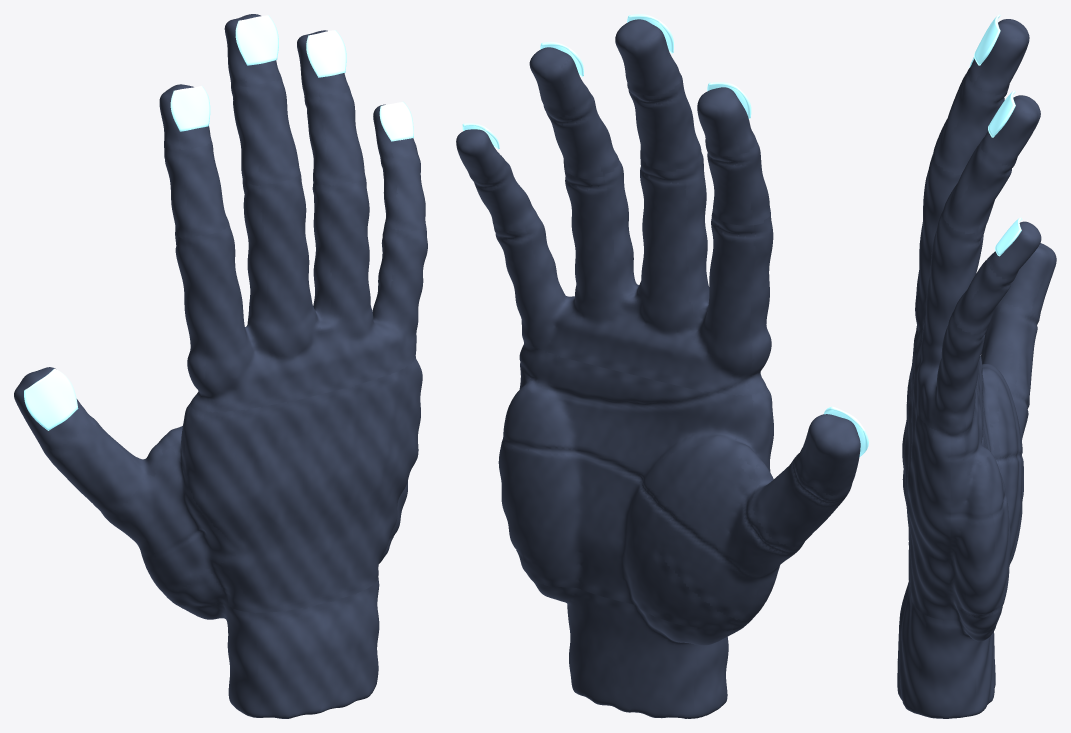
Rendered from family-17.glb.
3 renders of one model, left to right at view 1: azimuth 30°, elevation 25°; view 2: azimuth 150°, elevation 25°; view 3: azimuth 270°, elevation 25°, orthographic. The views are drawn at different scales.
Parts seen in each view (by area): view 1: knuckles__knuckles_sculpt, back_of_hand__back_of_hand_sculpt, middle_sections__middle_sections_sculpt, wrist__wrist_sculpt, fingertips__fingertips_sculpt, palm__palm_sculpt, nails__thumb_claw, nails__middle_claw, nails__ring_claw, nails__index_claw, nails__pinky_claw; view 2: knuckles__knuckles_sculpt, palm__palm_sculpt, middle_sections__middle_sections_sculpt, wrist__wrist_sculpt, fingertips__fingertips_sculpt; view 3: palm__palm_sculpt, knuckles__knuckles_sculpt, middle_sections__middle_sections_sculpt, wrist__wrist_sculpt, back_of_hand__back_of_hand_sculpt, fingertips__fingertips_sculpt, nails__middle_claw, nails__ring_claw, nails__pinky_claw.
Boxes of the visible parts, x1,y1,x2,y2 form: knuckles__knuckles_sculpt: (101,173,427,595); back_of_hand__back_of_hand_sculpt: (184,356,422,613); middle_sections__middle_sections_sculpt: (43,78,426,513); wrist__wrist_sculpt: (175,559,382,718); fingertips__fingertips_sculpt: (14,14,418,451); palm__palm_sculpt: (164,402,407,606); nails__thumb_claw: (24,368,78,430); nails__middle_claw: (235,15,278,65); nails__ring_claw: (306,30,346,77); nails__index_claw: (170,85,210,131); nails__pinky_claw: (379,101,413,141); knuckles__knuckles_sculpt: (494,153,804,621); palm__palm_sculpt: (498,341,770,631); middle_sections__middle_sections_sculpt: (469,73,851,547); wrist__wrist_sculpt: (530,578,741,718); fingertips__fingertips_sculpt: (456,19,860,495); palm__palm_sculpt: (948,356,1022,632); knuckles__knuckles_sculpt: (911,155,1029,500); middle_sections__middle_sections_sculpt: (932,71,1039,394); wrist__wrist_sculpt: (897,581,996,718); back_of_hand__back_of_hand_sculpt: (902,370,950,620); fingertips__fingertips_sculpt: (967,19,1056,315); nails__middle_claw: (974,14,1000,65); nails__ring_claw: (988,90,1015,137); nails__pinky_claw: (995,217,1021,256).
Bounding box in the file's own units: 0.1313 × 0.2172 × 0.0476.
Materials: 2 (1 with a texture image).
